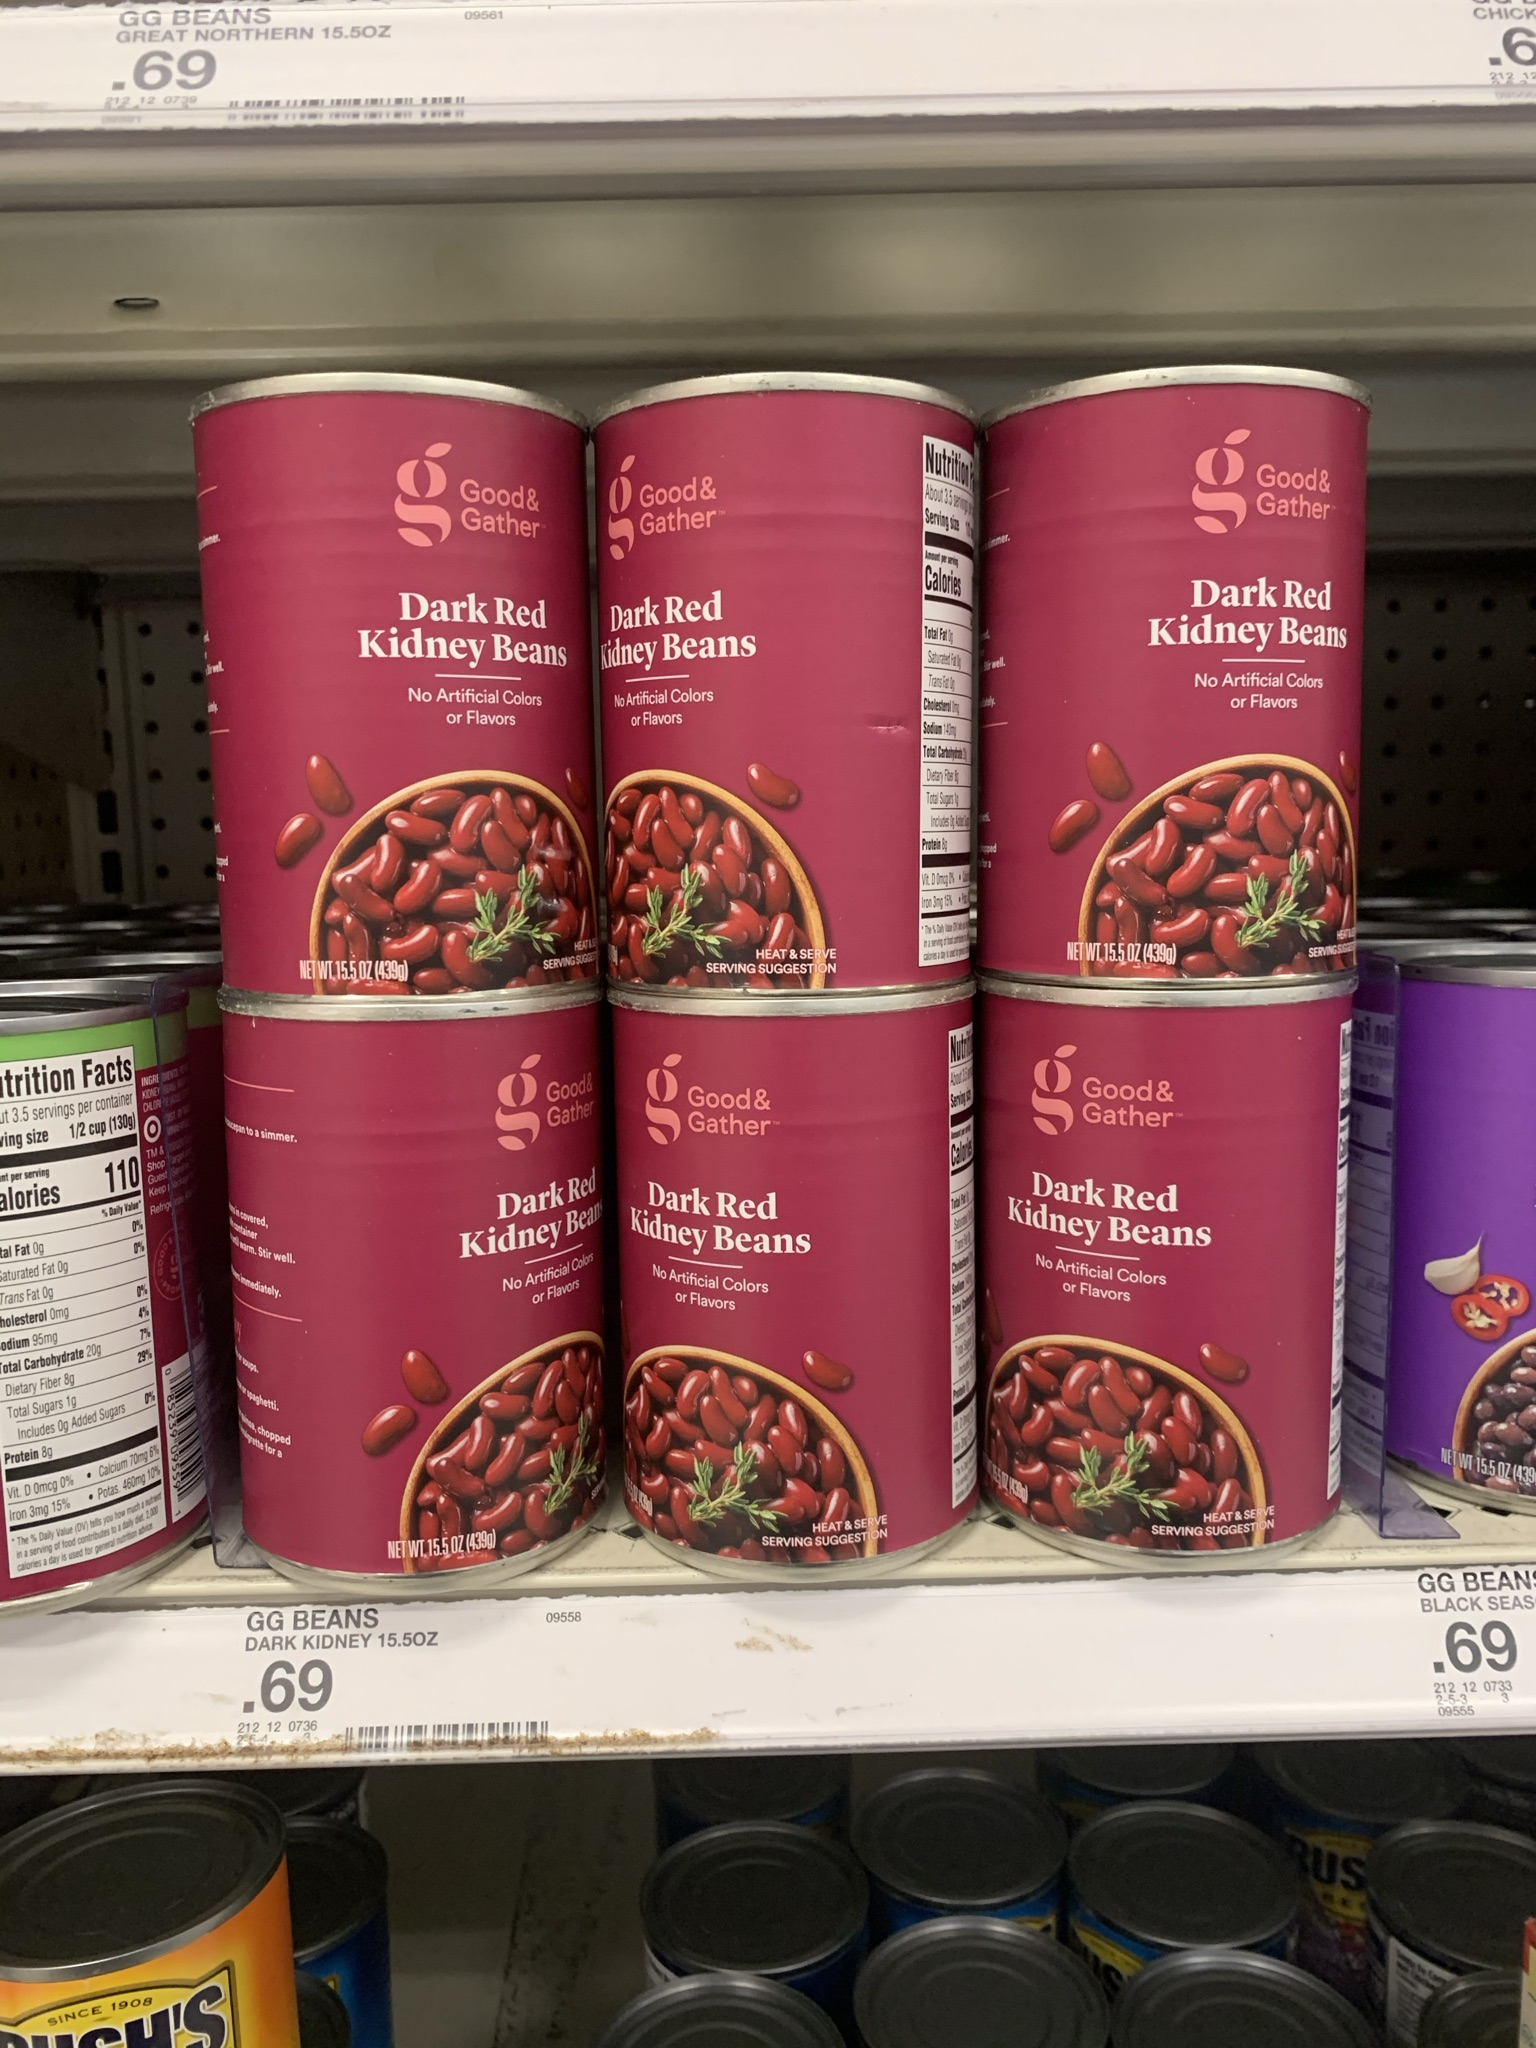can: (607, 387, 970, 987), (216, 402, 579, 980), (997, 405, 1355, 968), (237, 1014, 597, 1540), (989, 1008, 1350, 1530), (624, 1008, 973, 1535)
